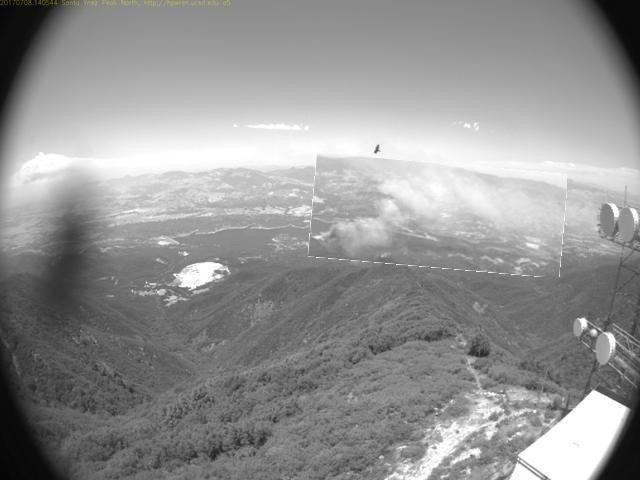smoke: (311, 160, 567, 274)
